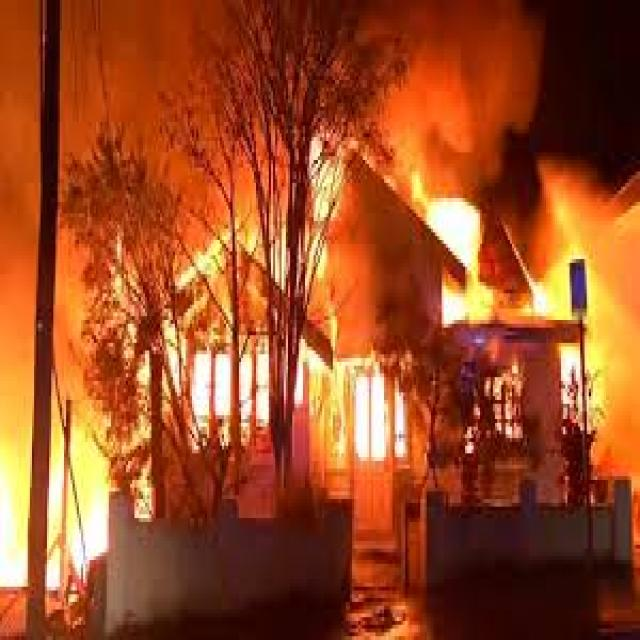fire: (0, 5, 640, 588)
